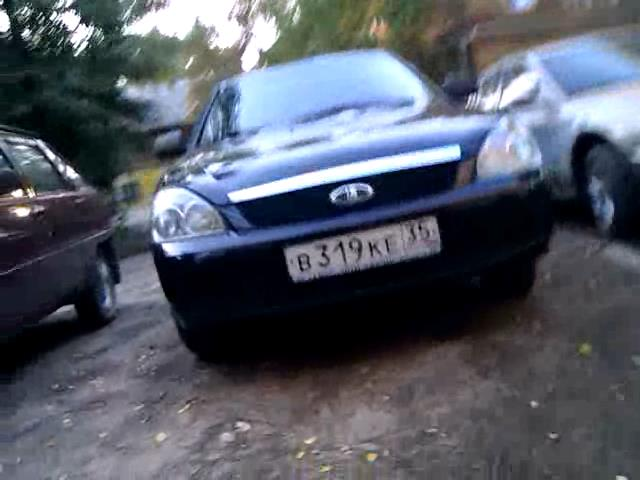car license plate: (284, 215, 443, 289)
